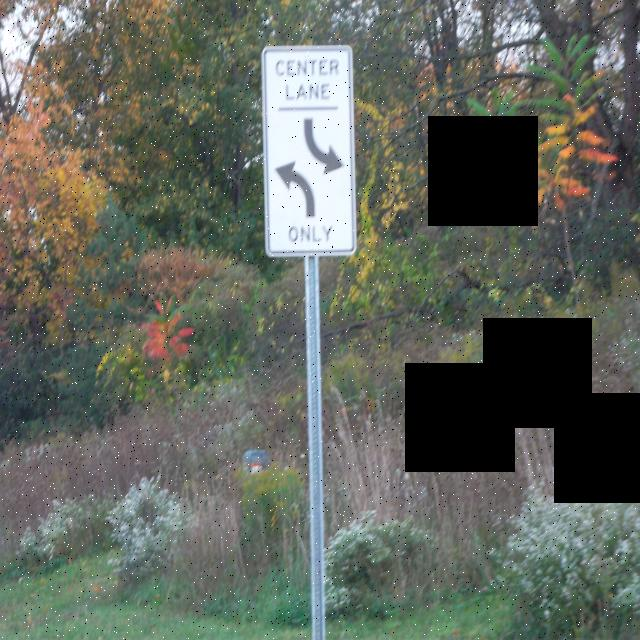regulatory: (261, 41, 359, 261)
